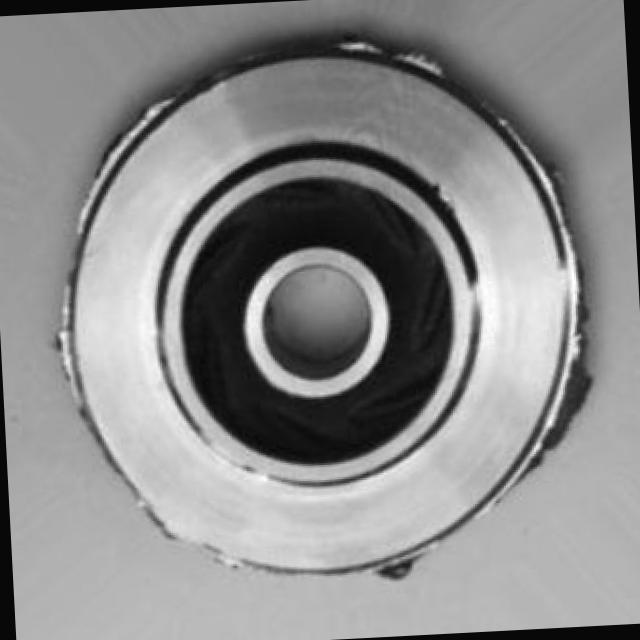Defect: (551, 342, 602, 436)
